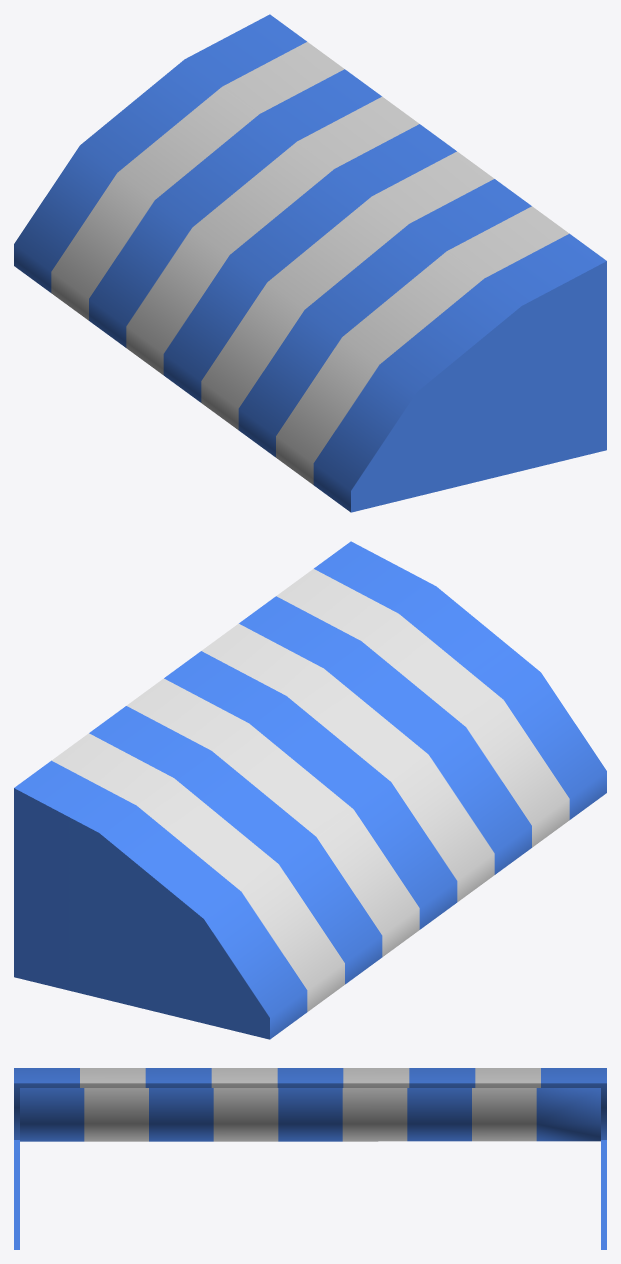
Rendered from Awning_1_H.fbx.
The picture shows the model from 3 angles, top to bottom: view 1: azimuth 30°, elevation 25°; view 2: azimuth 150°, elevation 25°; view 3: azimuth 270°, elevation 25°; orthographic projection. The views are drawn at different scales.
Visible parts, largest first — view 1: Awning_1_H; view 2: Awning_1_H; view 3: Awning_1_H.
Part boxes in pixels (x1,y1,x2,y2): Awning_1_H: (14,14,606,512); Awning_1_H: (14,541,606,1039); Awning_1_H: (14,1068,606,1249).
Size of the model in its own units: 123 by 86.57 by 280.
